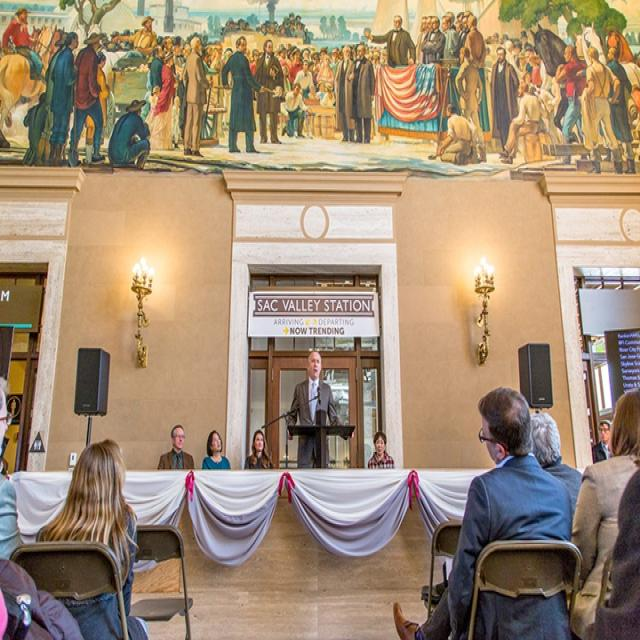body: (0, 0, 638, 179), (391, 385, 574, 640), (33, 436, 149, 639), (0, 377, 77, 638), (568, 386, 639, 638), (286, 349, 356, 471), (593, 468, 639, 639), (527, 409, 584, 516), (157, 422, 196, 470), (201, 428, 232, 472), (243, 429, 274, 471), (366, 429, 395, 471), (590, 418, 612, 466)
